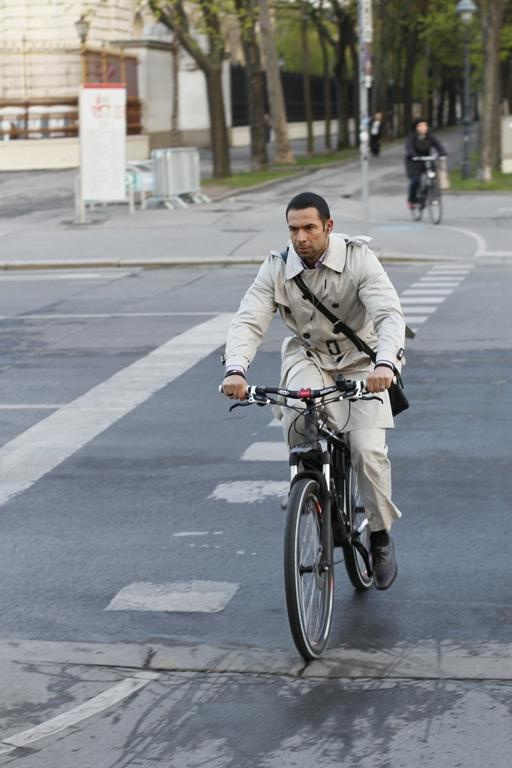non-vehicle: (215, 370, 401, 659), (405, 150, 447, 225)
